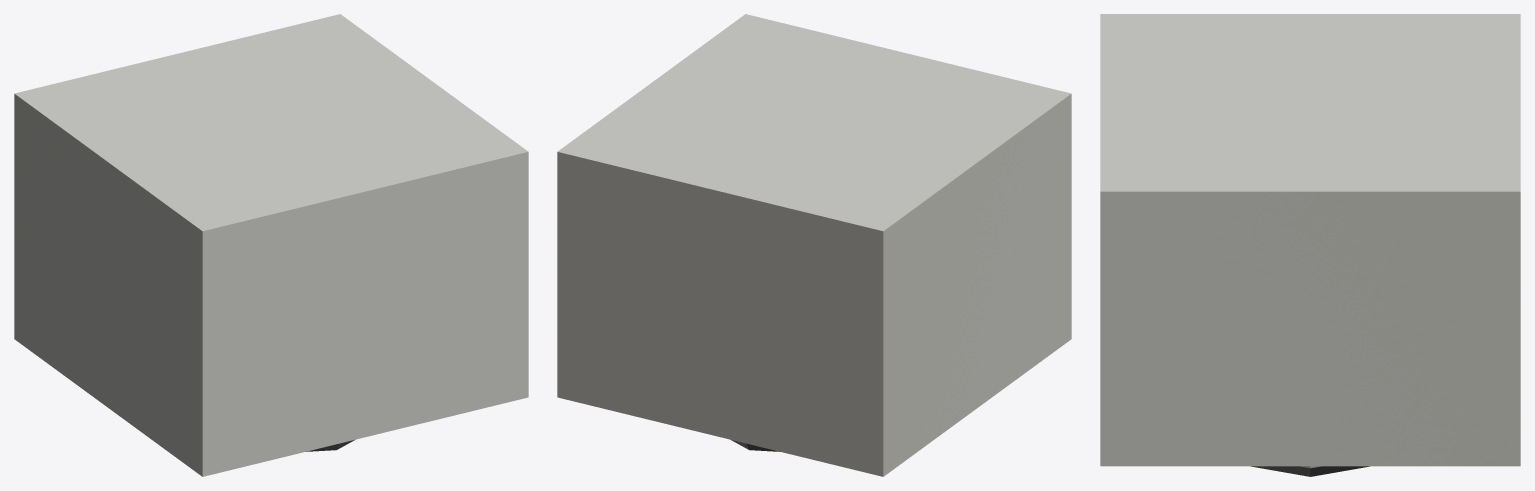
The model's file is FreezerCondenser.obj.
3 views of the same model, side by side, from view 1: azimuth 30°, elevation 25°; view 2: azimuth 150°, elevation 25°; view 3: azimuth 270°, elevation 25° (orthographic). The views are drawn at different scales.
Visible parts, largest first — view 1: cond_Cube; view 2: cond_Cube; view 3: cond_Cube.
Part boxes in pixels (box(x1,y1,x2,y2)): cond_Cube: box(14, 14, 528, 476); cond_Cube: box(557, 14, 1071, 476); cond_Cube: box(1100, 14, 1520, 476).
Size of the model in its own units: 0.6 by 0.5008 by 0.6.
1 material, 1 textured.
